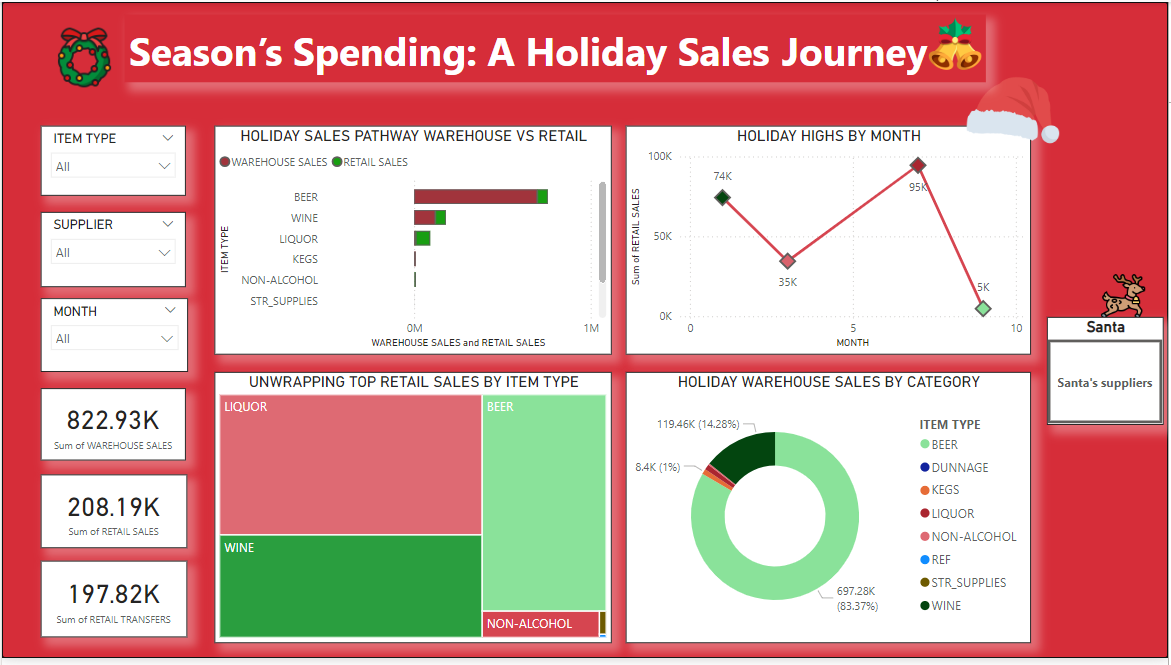

The page's visual inventory and layout, read from the dashboard file:
{"tool":"powerbi","page":{"name":"Season 's Spending ","canvas":[1280,720],"ordinal":0},"visuals":[{"type":"treemap","title":"UNWRAPPING TOP RETAIL SALES BY ITEM TYPE","fields":{"Values":["Retail and wherehouse Sale.RETAIL SALES"],"Group":["Retail and wherehouse Sale.ITEM TYPE"]},"box":[233.3,406.2,436.4,297.8],"z":0},{"type":"lineChart","title":"HOLIDAY HIGHS BY  MONTH","fields":{"Category":["Retail and wherehouse Sale.MONTH"],"Y":["Retail and wherehouse Sale.RETAIL SALES"]},"box":[684.7,135.8,444.6,251.1],"z":1000},{"type":"donutChart","title":"HOLIDAY WAREHOUSE SALES BY CATEGORY ","fields":{"Series":["Retail and wherehouse Sale.ITEM TYPE"],"Y":["Retail and wherehouse Sale.WAREHOUSE SALES"]},"box":[684.7,406.2,444.6,297.8],"z":2000},{"type":"slicer","fields":{"Values":["Retail and wherehouse Sale.ITEM TYPE"]},"box":[42.5,135.8,159.2,76.8],"z":3000},{"type":"slicer","fields":{"Values":["Retail and wherehouse Sale.MONTH"]},"box":[42.5,325.2,161.9,81],"z":4000},{"type":"slicer","fields":{"Values":["Retail and wherehouse Sale.SUPPLIER"]},"box":[42.5,230.5,159.2,82.3],"z":5000},{"type":"card","fields":{"Values":["Retail and wherehouse Sale.WAREHOUSE SALES"]},"box":[42.5,424,159.2,79.6],"z":6000},{"type":"card","fields":{"Values":["Retail and wherehouse Sale.RETAIL SALES"]},"box":[42.5,518.7,160.5,81],"z":7000},{"type":"card","fields":{"Values":["Retail and wherehouse Sale.RETAIL TRANSFERS"]},"box":[42.5,613.4,160.5,83.7],"z":8000},{"type":"barChart","title":"HOLIDAY SALES PATHWAY WAREHOUSE VS RETAIL","fields":{"Category":["Retail and wherehouse Sale.ITEM TYPE"],"Y":["Retail and wherehouse Sale.WAREHOUSE SALES","Retail and wherehouse Sale.RETAIL SALES"]},"box":[233.3,135.8,436.4,251.1],"z":9000},{"type":"image","box":[1037.4,63.1,144.1,111.1],"z":10000},{"type":"textbox","box":[134.5,13.7,945.5,74.1],"z":11000},{"type":"image","box":[45.3,23.3,89.2,75.5],"z":12000},{"type":"image","box":[1012.7,4.1,67.2,83.7],"z":13000},{"type":"image","box":[1200.7,286.8,60.4,72.7],"z":14000},{"type":"actionButton","title":"Santa ","box":[1147.2,345.8,127.6,118],"z":15000}]}

Visuals, with their boxes in screenshot pixels (x1, y1, x2, y2), scaled from the page's 1280x720 canvas onto the 1171x665 screenshot:
"UNWRAPPING TOP RETAIL SALES BY ITEM TYPE" treemap: select_region(213, 375, 613, 650)
"HOLIDAY HIGHS BY  MONTH" lineChart: select_region(626, 125, 1033, 357)
"HOLIDAY WAREHOUSE SALES BY CATEGORY " donutChart: select_region(626, 375, 1033, 650)
slicer - Retail and wherehouse Sale.ITEM TYPE: select_region(39, 125, 185, 196)
slicer - Retail and wherehouse Sale.MONTH: select_region(39, 300, 187, 375)
slicer - Retail and wherehouse Sale.SUPPLIER: select_region(39, 213, 185, 289)
card - Retail and wherehouse Sale.WAREHOUSE SALES: select_region(39, 392, 185, 465)
card - Retail and wherehouse Sale.RETAIL SALES: select_region(39, 479, 186, 554)
card - Retail and wherehouse Sale.RETAIL TRANSFERS: select_region(39, 567, 186, 644)
"HOLIDAY SALES PATHWAY WAREHOUSE VS RETAIL" barChart: select_region(213, 125, 613, 357)
image: select_region(949, 58, 1081, 161)
textbox: select_region(123, 13, 988, 81)
image: select_region(41, 22, 123, 91)
image: select_region(926, 4, 988, 81)
image: select_region(1098, 265, 1154, 332)
"Santa " actionButton: select_region(1050, 319, 1166, 428)
